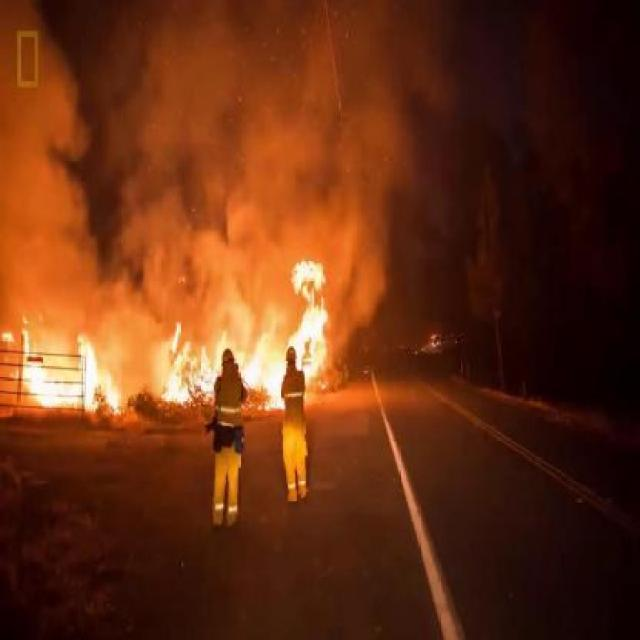Fire: (162, 264, 332, 412), (2, 326, 124, 412)
